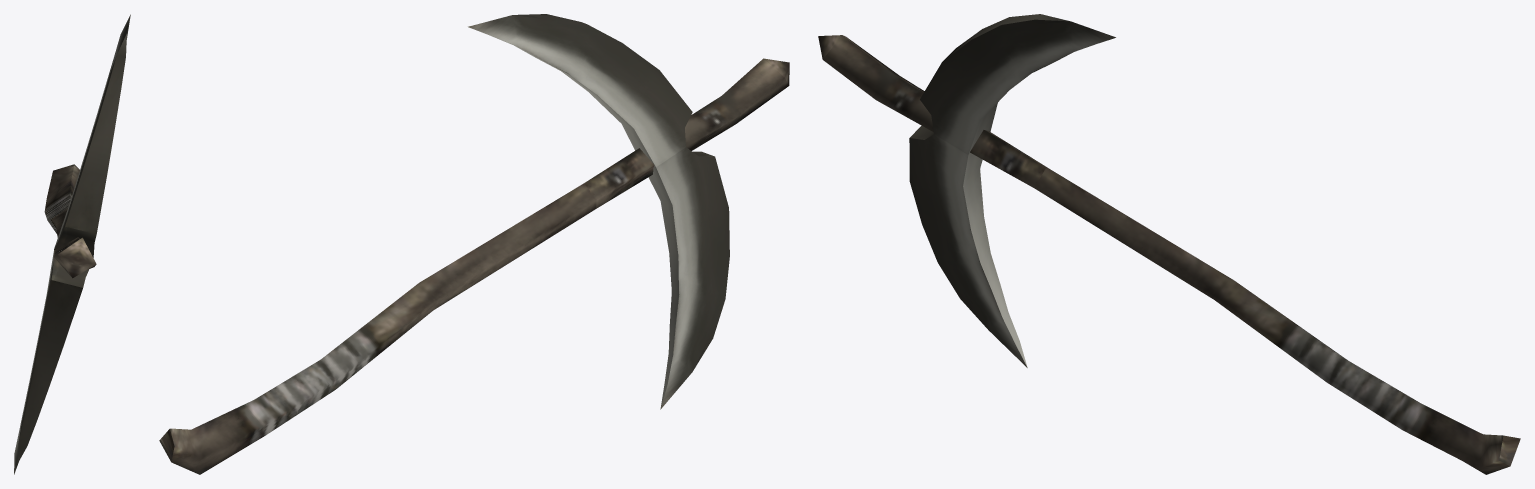
Rendered from pickaxe.fbx.
The picture shows the model from 3 angles, left to right: view 1: azimuth 30°, elevation 25°; view 2: azimuth 150°, elevation 25°; view 3: azimuth 270°, elevation 25°; orthographic projection. The views are drawn at different scales.
Visible parts, largest first — view 1: pickaxe; view 2: pickaxe; view 3: pickaxe.
Boxes of the visible parts, x1=… form: pickaxe: x1=14, y1=14, x2=130, y2=474; pickaxe: x1=159, y1=14, x2=789, y2=474; pickaxe: x1=818, y1=14, x2=1520, y2=474.
Bounding box in the file's own units: 101 × 112 × 171.
